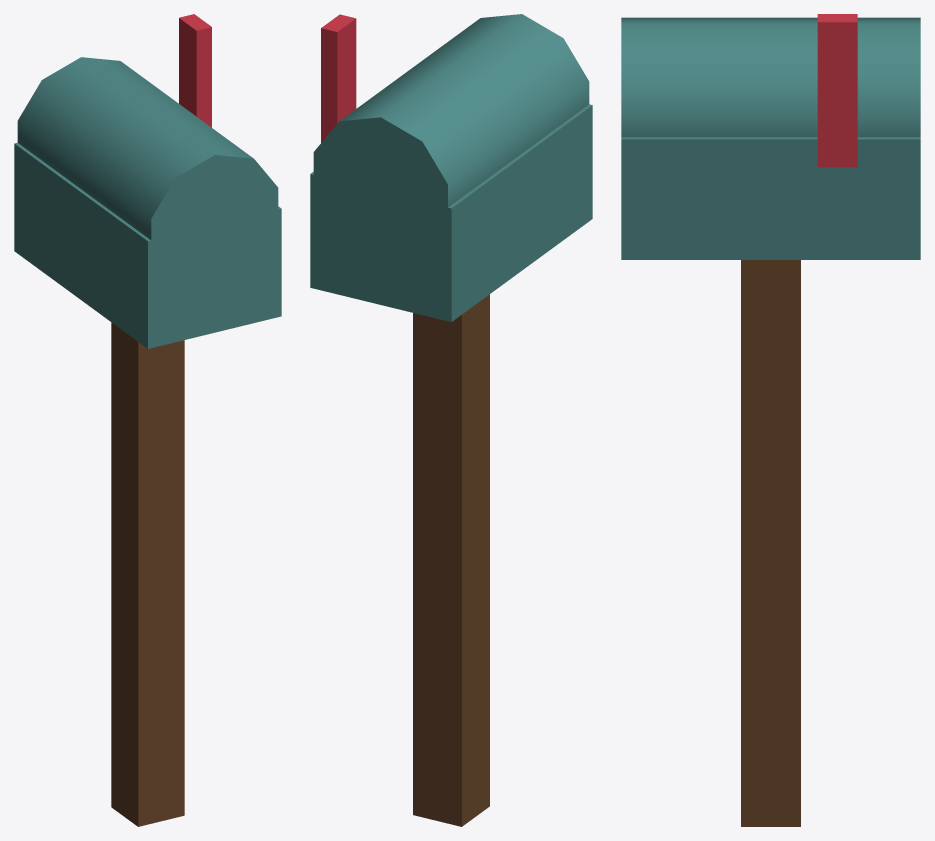
Rendered from prop_mailbox.glb.
3 renders of one model, left to right at view 1: azimuth 30°, elevation 25°; view 2: azimuth 150°, elevation 25°; view 3: azimuth 270°, elevation 25°, orthographic. The views are drawn at different scales.
Visible parts, largest first — view 1: Prop_Mailbox; view 2: Prop_Mailbox; view 3: Prop_Mailbox.
Part boxes in pixels (box(x1,y1,x2,y2)): Prop_Mailbox: box(14, 14, 281, 826); Prop_Mailbox: box(310, 14, 592, 826); Prop_Mailbox: box(621, 14, 920, 826).
Bounding box in the file's own units: 0.295 × 1.39 × 0.45.
